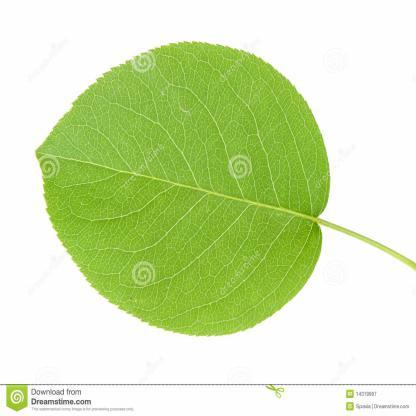Apple leaf: (28, 36, 416, 345)
